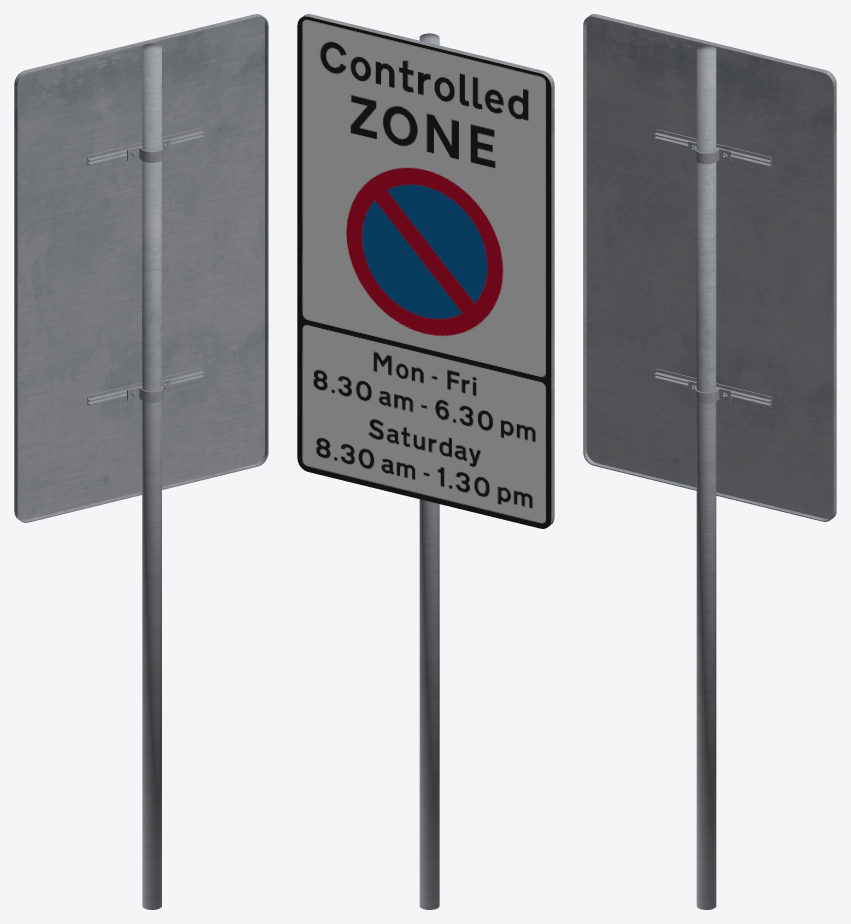
The model's file is Controlled_Parking_Zone.fbx.
3 renders of one model, left to right at view 1: azimuth 30°, elevation 25°; view 2: azimuth 150°, elevation 25°; view 3: azimuth 330°, elevation 25°, orthographic.
Visible parts, largest first — view 1: Controlled Parking Zone; view 2: Controlled Parking Zone; view 3: Controlled Parking Zone.
Part boxes in pixels (x1,y1,x2,y2): Controlled Parking Zone: (14,14,268,909); Controlled Parking Zone: (297,14,554,909); Controlled Parking Zone: (583,14,836,909).
Size of the model in its own units: 0.0875 by 0.875 by 2.86.
